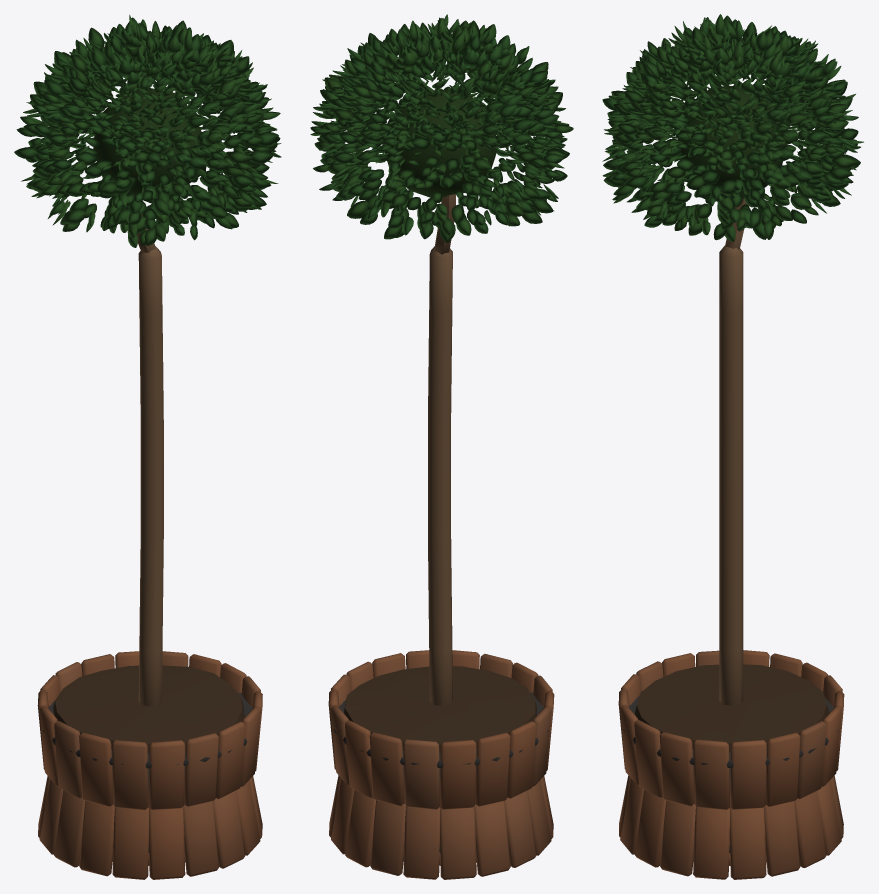
File: tubtree_bay.glb
3 renders of one model, left to right at view 1: azimuth 30°, elevation 25°; view 2: azimuth 150°, elevation 25°; view 3: azimuth 270°, elevation 25°, orthographic.
Parts seen in each view (by area): view 1: Sammel Holz, Sammel Pflanze, Sammel Putz, Sammel Blatt, Sammel Metall; view 2: Sammel Holz, Sammel Pflanze, Sammel Putz, Sammel Blatt, Sammel Metall; view 3: Sammel Holz, Sammel Pflanze, Sammel Putz, Sammel Blatt, Sammel Metall.
Boxes of the visible parts, <box> form: Sammel Holz: <box>37,214,262,879</box>; Sammel Pflanze: <box>14,14,281,247</box>; Sammel Putz: <box>53,665,244,753</box>; Sammel Blatt: <box>93,86,206,203</box>; Sammel Metall: <box>42,692,252,852</box>; Sammel Holz: <box>328,194,554,879</box>; Sammel Pflanze: <box>310,14,573,242</box>; Sammel Putz: <box>344,666,536,753</box>; Sammel Blatt: <box>382,89,497,197</box>; Sammel Metall: <box>333,691,548,852</box>; Sammel Holz: <box>618,198,844,879</box>; Sammel Pflanze: <box>602,14,863,241</box>; Sammel Putz: <box>635,664,829,752</box>; Sammel Blatt: <box>678,85,785,198</box>; Sammel Metall: <box>623,691,842,852</box>.
Bounding box in the file's own units: 0.8796 × 2.95 × 0.8731.
